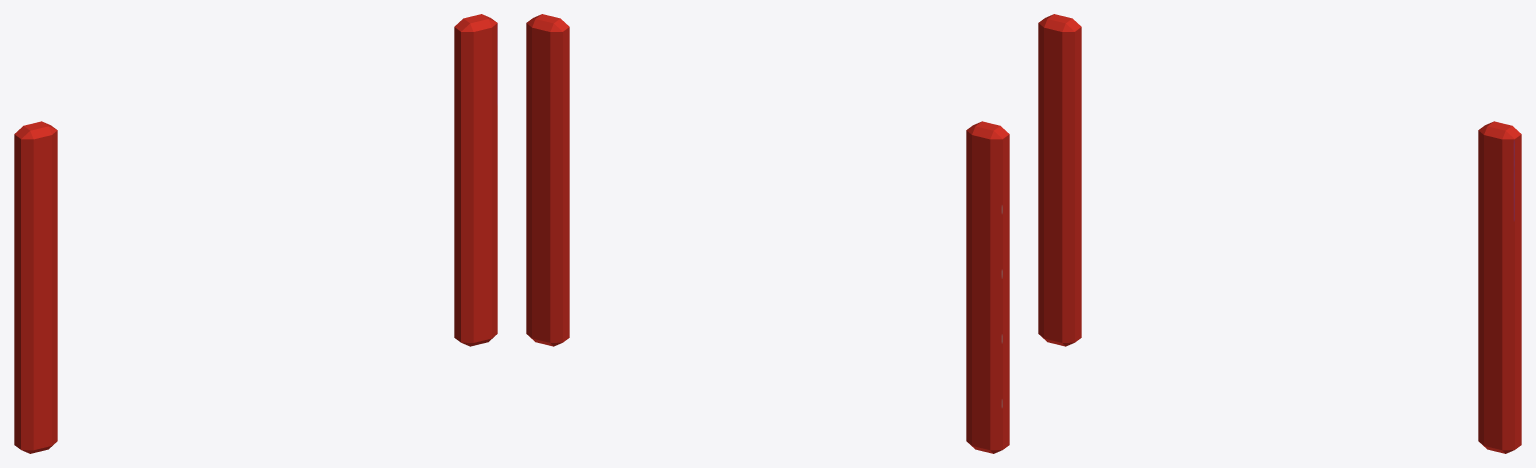
The model's file is SM_SlidePole.fbx.
3 renders of one model, left to right at view 1: azimuth 30°, elevation 25°; view 2: azimuth 150°, elevation 25°; view 3: azimuth 330°, elevation 25°, orthographic.
Visible parts, largest first — view 1: SM_Slide_Extension__8_; view 2: SM_Slide_Extension__8_; view 3: SM_Slide_Extension__8_.
Part boxes in pixels (<box>): SM_Slide_Extension__8_: <box>14,14,497,453</box>; SM_Slide_Extension__8_: <box>526,14,1009,453</box>; SM_Slide_Extension__8_: <box>1038,14,1521,453</box>.
Size of the model in its own units: 830 by 538 by 41.11.
